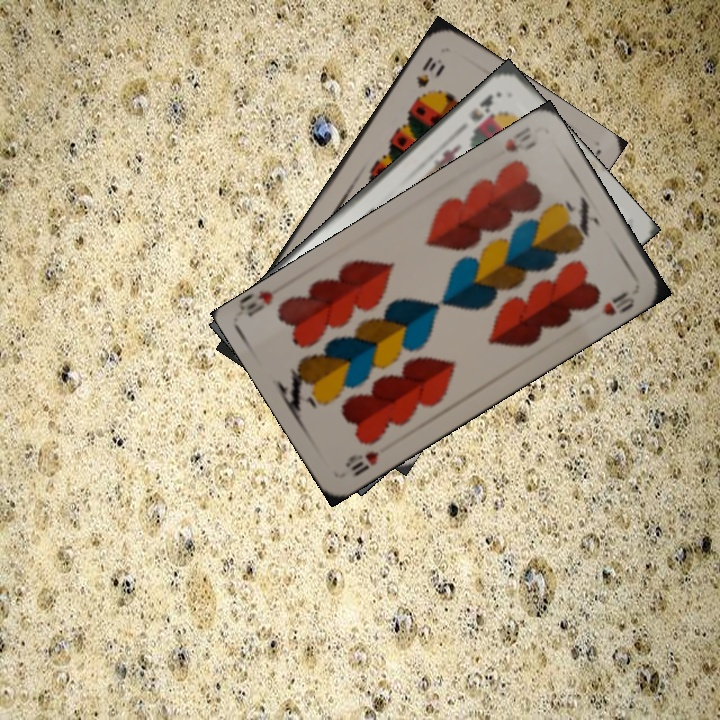H10: (341, 447, 382, 479), (501, 123, 540, 155)
S10: (412, 52, 439, 91)
SK: (465, 90, 496, 125)
